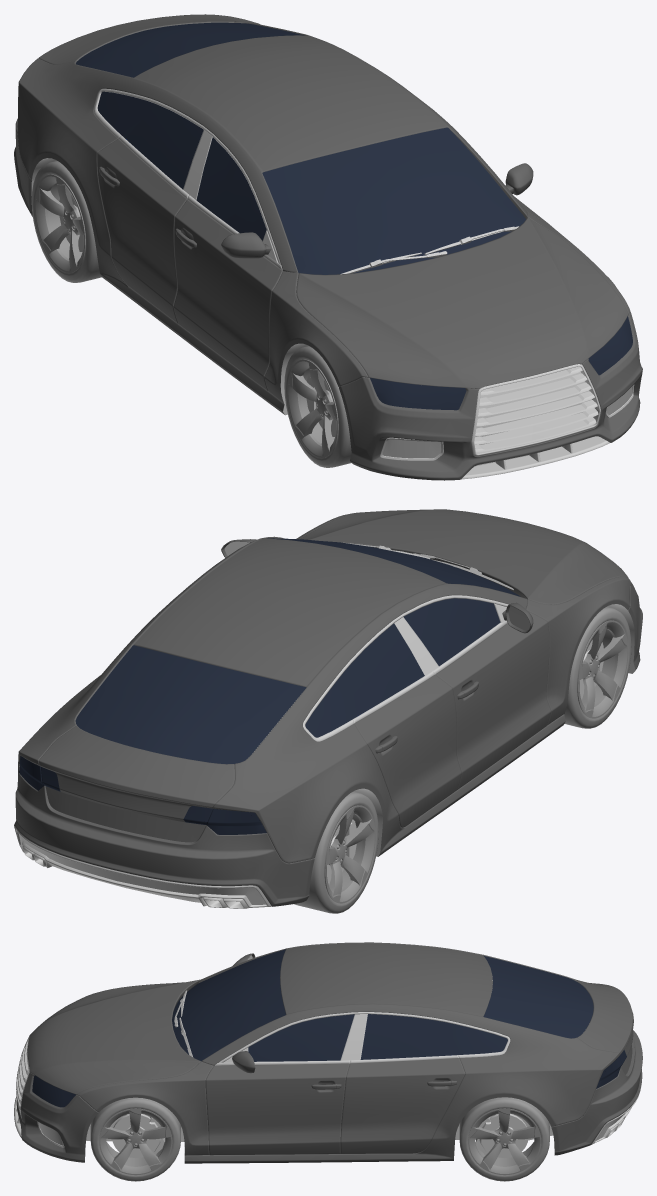
Rendered from RealisticCar02_HD_Complete.FBX.
The picture shows the model from 3 angles, top to bottom: view 1: azimuth 30°, elevation 25°; view 2: azimuth 150°, elevation 25°; view 3: azimuth 270°, elevation 25°; orthographic projection. The views are drawn at different scales.
Parts seen in each view (by area): view 1: Car02_Body_LOD0, Car02_Glass_LOD0, Car02_Door_FrontRight_LOD0, Car02_Door_BackRight_LOD0, Car02_Wheel_BackRight_LOD0, Car02_Wheel_FrontRight_LOD0, Car02_Door_FrontLeft_LOD0; view 2: Car02_Body_LOD0, Car02_Glass_LOD0, Car02_Door_FrontRight_LOD0, Car02_Door_BackRight_LOD0, Car02_Wheel_BackRight_LOD0, Car02_Wheel_FrontRight_LOD0; view 3: Car02_Body_LOD0, Car02_Door_FrontLeft_LOD0, Car02_Glass_LOD0, Car02_Door_BackLeft_LOD0, Car02_Wheel_BackLeft_LOD0, Car02_Wheel_FrontLeft_LOD0, Car02_BrakeDisc_FrontLeft_LOD0, Car02_BrakeDisc_BackLeft_LOD0.
Boxes of the visible parts, box(x1,y1,x2,y2) form: Car02_Body_LOD0: box(14, 14, 642, 480); Car02_Glass_LOD0: box(76, 22, 632, 410); Car02_Door_FrontRight_LOD0: box(173, 137, 282, 390); Car02_Door_BackRight_LOD0: box(97, 104, 203, 323); Car02_Wheel_BackRight_LOD0: box(31, 161, 101, 282); Car02_Wheel_FrontRight_LOD0: box(284, 346, 351, 467); Car02_Door_FrontLeft_LOD0: box(505, 163, 547, 222); Car02_Body_LOD0: box(14, 509, 642, 908); Car02_Glass_LOD0: box(19, 538, 520, 834); Car02_Door_FrontRight_LOD0: box(403, 598, 551, 789); Car02_Door_BackRight_LOD0: box(348, 623, 461, 827); Car02_Wheel_BackRight_LOD0: box(294, 791, 378, 913); Car02_Wheel_FrontRight_LOD0: box(564, 607, 631, 728); Car02_Body_LOD0: box(14, 942, 642, 1163); Car02_Door_FrontLeft_LOD0: box(205, 1014, 354, 1155); Car02_Glass_LOD0: box(32, 949, 626, 1107); Car02_Door_BackLeft_LOD0: box(340, 1014, 465, 1153); Car02_Wheel_BackLeft_LOD0: box(459, 1097, 549, 1181); Car02_Wheel_FrontLeft_LOD0: box(90, 1097, 180, 1181); Car02_BrakeDisc_FrontLeft_LOD0: box(112, 1114, 150, 1158); Car02_BrakeDisc_BackLeft_LOD0: box(490, 1113, 528, 1158).
Size of what is drawn, in the model's own units: 2.09 by 5.03 by 1.43.
